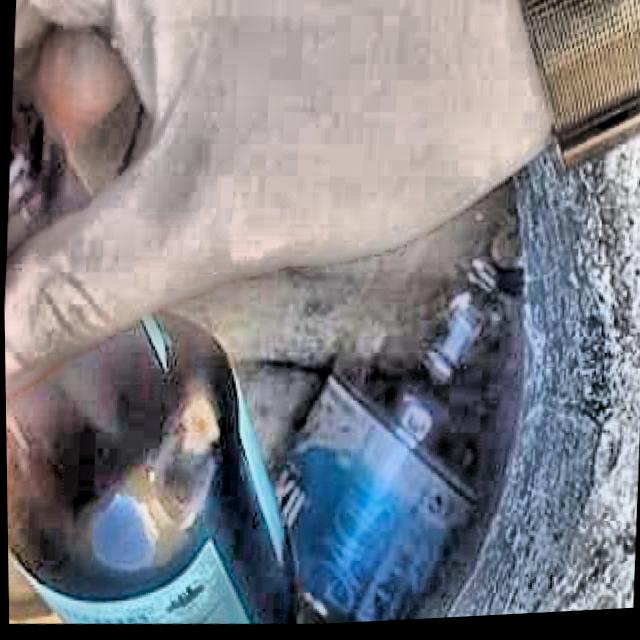glass: (5, 316, 295, 627), (6, 83, 84, 264)
